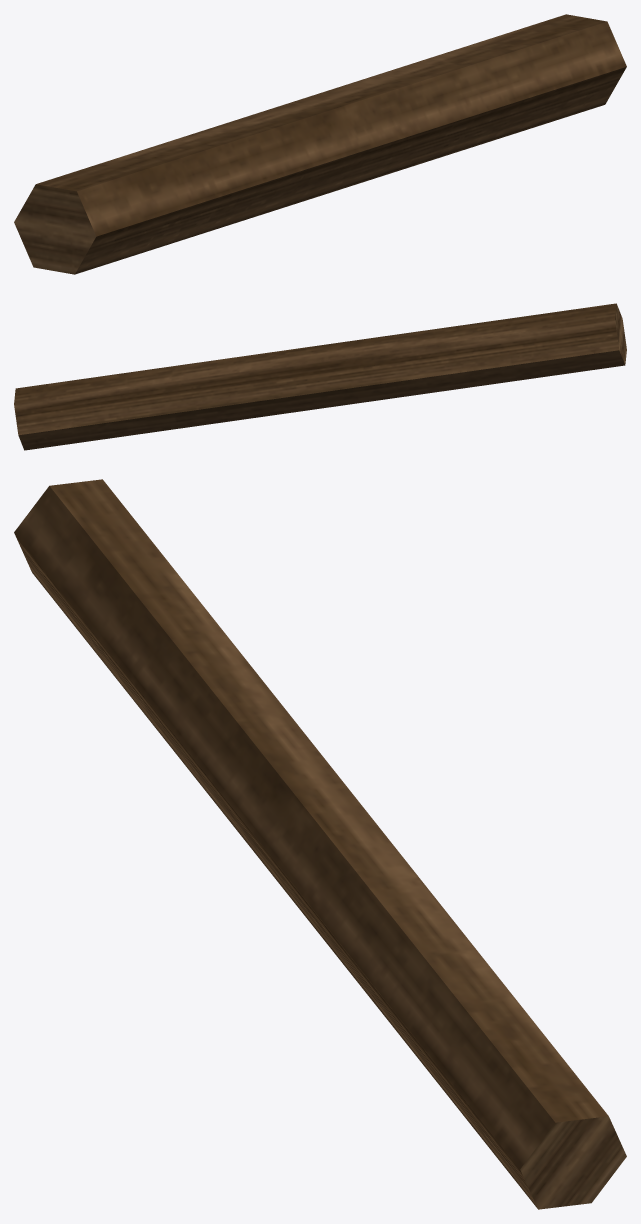
File: stick.fbx
3 renders of one model, top to bottom at view 1: azimuth 30°, elevation 25°; view 2: azimuth 150°, elevation 25°; view 3: azimuth 270°, elevation 25°, orthographic. The views are drawn at different scales.
Visible parts, largest first — view 1: Cylinder.004; view 2: Cylinder.004; view 3: Cylinder.004.
Boxes of the visible parts, box(x1,y1,x2,y2) form: Cylinder.004: box(14, 14, 626, 274); Cylinder.004: box(14, 303, 626, 450); Cylinder.004: box(14, 479, 626, 1209).
Bounding box in the file's own units: 665 × 198 × 372.
1 material, 1 textured.
